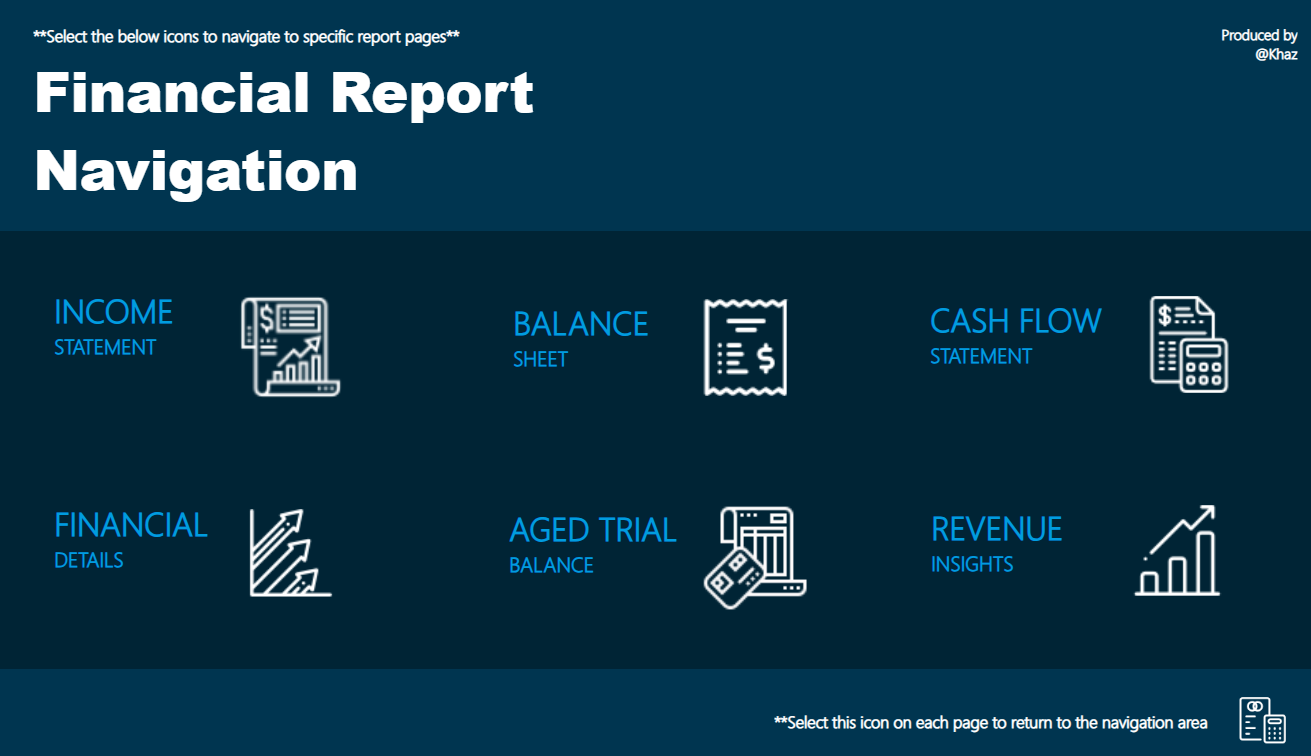

This screenshot's page, from the dashboard's own definition file:
{"tool":"powerbi","page":{"name":"Navigation","canvas":[1280,720],"ordinal":0},"visuals":[{"type":"basicShape","box":[0,206.3,1280,426.3],"z":0},{"type":"textbox","box":[29.6,26.4,559.6,173.5],"z":1000},{"type":"image","box":[673.9,467.6,124.8,113.2],"z":2000},{"type":"image","box":[658,267.6,140.7,103.7],"z":3000},{"type":"image","box":[1082.2,264.5,151.3,103.7],"z":4000},{"type":"image","box":[231.7,471.8,107.9,95.2],"z":5000},{"type":"image","box":[1098,465.5,98.4,102.6],"z":6000},{"type":"image","box":[206.3,264.5,157.6,109],"z":7000},{"type":"textbox","box":[49.7,256,165,103.7],"z":9000},{"type":"textbox","box":[49.7,463.3,173.5,103.7],"z":10000},{"type":"textbox","box":[496.1,267.6,161.9,103.7],"z":11000},{"type":"textbox","box":[901.3,264.5,190.4,103.7],"z":12000},{"type":"textbox","box":[491.9,467.6,193.6,103.7],"z":13000},{"type":"textbox","box":[902.3,466.5,180.9,103.7],"z":14000},{"type":"textbox","box":[29.6,0,452.8,39.1],"z":15000},{"type":"textbox","box":[750,667.5,446.4,43.4],"z":16000},{"type":"image","box":[1188.5,654.6,82.6,55.4],"z":17000},{"type":"textbox","box":[1137,0,132.3,64.2],"z":18000}]}

Visuals, with their boxes in screenshot pixels (x1, y1, x2, y2), scaled from the page's 1280x720 canvas onto the 1311x756 screenshot:
basicShape: (left=0, top=217, right=1310, bottom=664)
textbox: (left=30, top=28, right=603, bottom=210)
image: (left=690, top=491, right=818, bottom=610)
image: (left=674, top=281, right=818, bottom=390)
image: (left=1108, top=278, right=1263, bottom=387)
image: (left=237, top=495, right=348, bottom=595)
image: (left=1125, top=489, right=1225, bottom=597)
image: (left=211, top=278, right=373, bottom=392)
textbox: (left=51, top=269, right=220, bottom=378)
textbox: (left=51, top=486, right=229, bottom=595)
textbox: (left=508, top=281, right=674, bottom=390)
textbox: (left=923, top=278, right=1118, bottom=387)
textbox: (left=504, top=491, right=702, bottom=600)
textbox: (left=924, top=490, right=1109, bottom=599)
textbox: (left=30, top=0, right=494, bottom=41)
textbox: (left=768, top=701, right=1225, bottom=746)
image: (left=1217, top=687, right=1302, bottom=746)
textbox: (left=1165, top=0, right=1300, bottom=67)
